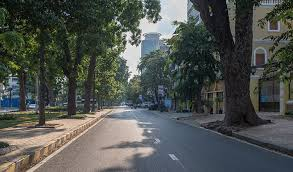strada: (110, 107, 266, 172)
